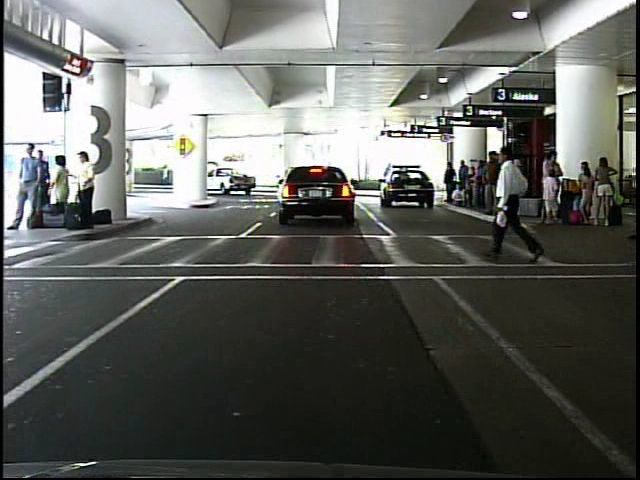person: (488, 138, 548, 270), (15, 140, 50, 237), (50, 152, 76, 227), (80, 147, 102, 232), (441, 161, 458, 205), (158, 162, 172, 190)
